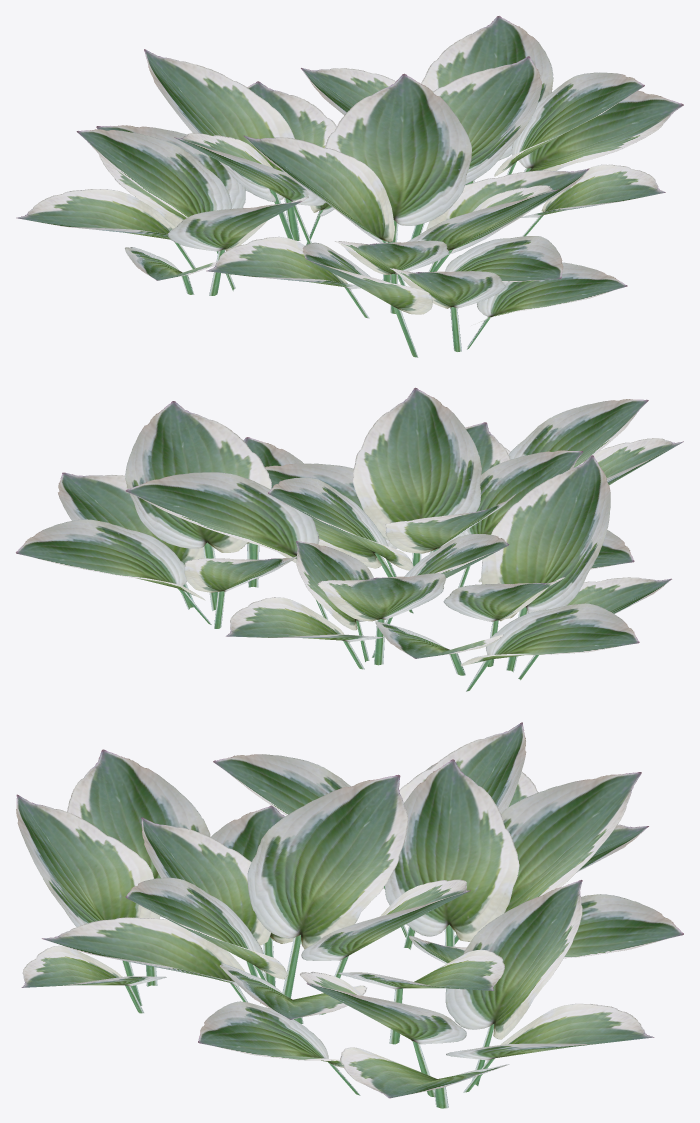
File: plant_small_wg_04V.fbx
3 renders of one model, top to bottom at view 1: azimuth 30°, elevation 25°; view 2: azimuth 150°, elevation 25°; view 3: azimuth 270°, elevation 25°, orthographic. The views are drawn at different scales.
Visible parts, largest first — view 1: plant_small_wg_04V; view 2: plant_small_wg_04V; view 3: plant_small_wg_04V.
Part boxes in pixels (<box>): plant_small_wg_04V: <box>16,16,683,357</box>; plant_small_wg_04V: <box>16,387,683,691</box>; plant_small_wg_04V: <box>16,722,683,1108</box>.
Bounding box in the file's own units: 250 × 62.02 × 204.
